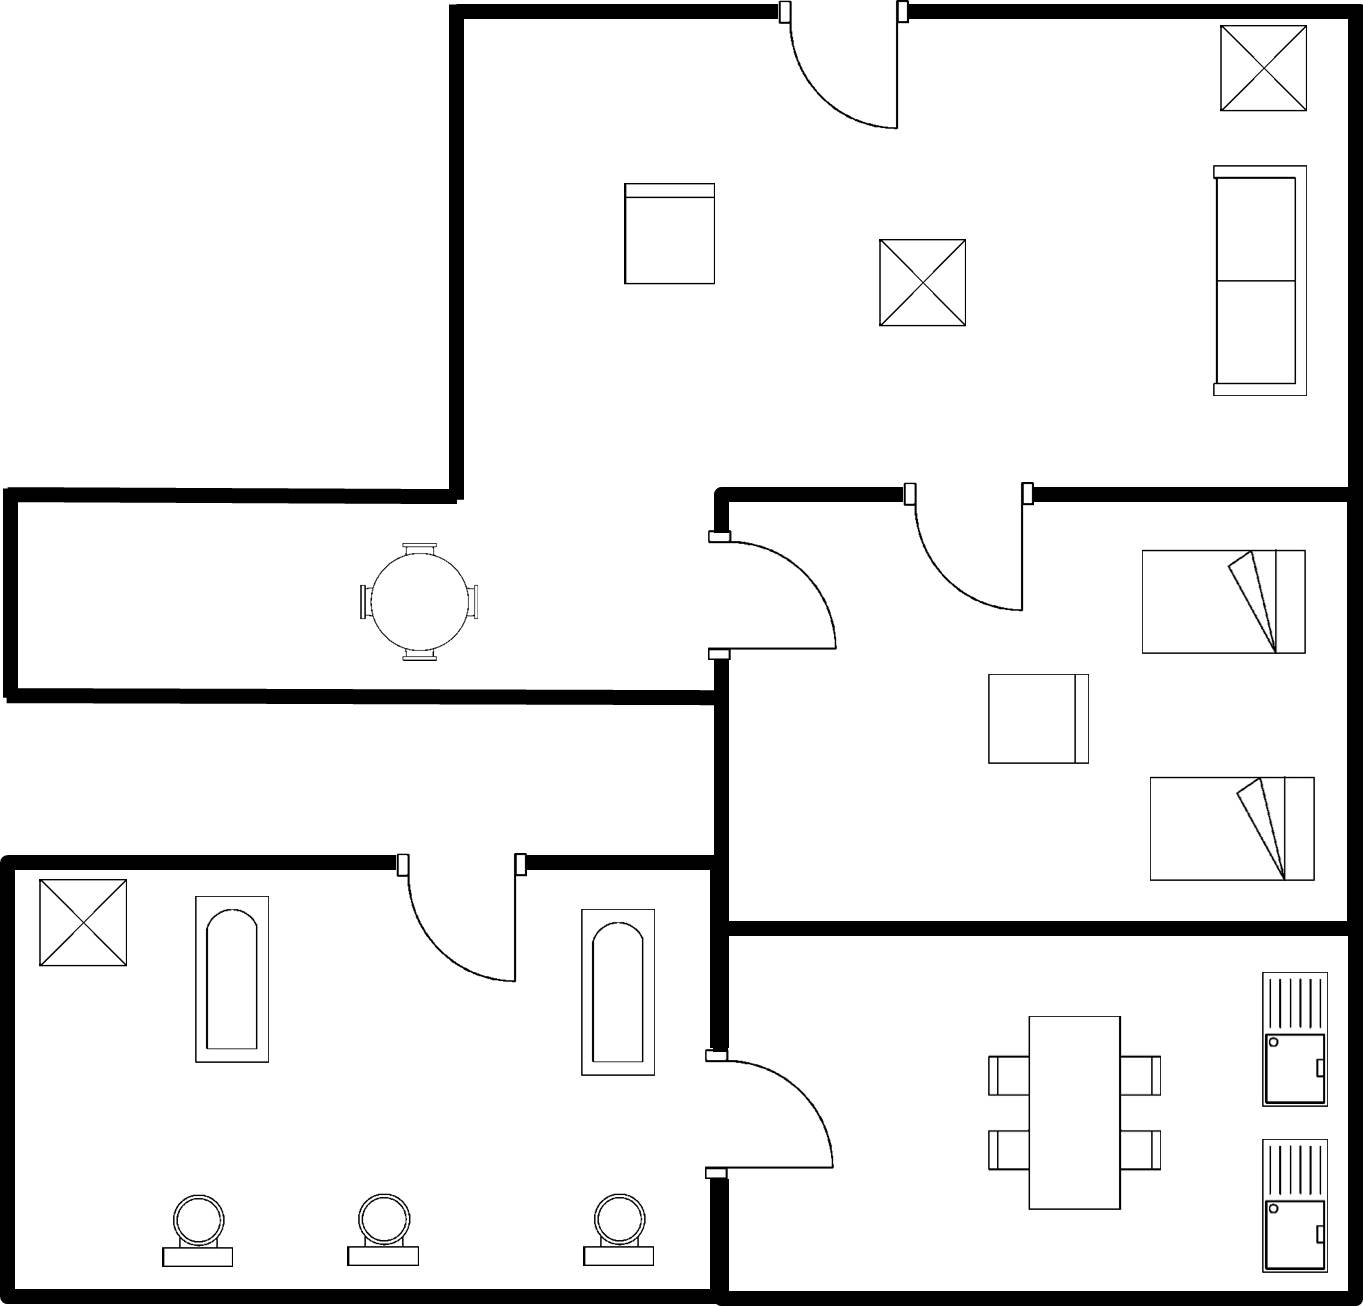bed: (1139, 767, 1325, 893), (1134, 540, 1316, 666)
coffee_table: (869, 228, 978, 340), (29, 871, 139, 977), (1214, 21, 1317, 126)
dining_table: (972, 1008, 1172, 1219)
large_sink: (335, 1183, 429, 1277), (148, 1188, 249, 1275), (574, 1184, 669, 1275)
large_sofa: (1206, 155, 1316, 408)
round_table: (345, 529, 490, 675)
sink: (1249, 966, 1338, 1117), (1253, 1131, 1336, 1283)
small_sofa: (973, 658, 1100, 776), (615, 171, 729, 300)
tub: (187, 888, 283, 1074), (573, 899, 665, 1086)
